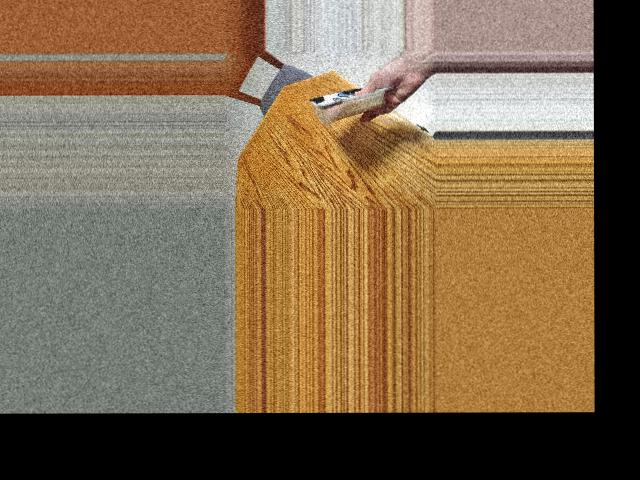cheese: (312, 69, 386, 132)
